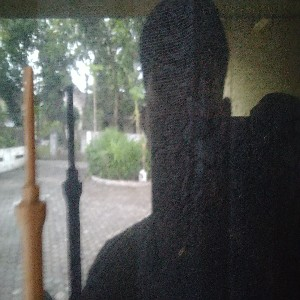obeng: (12, 65, 47, 300)
